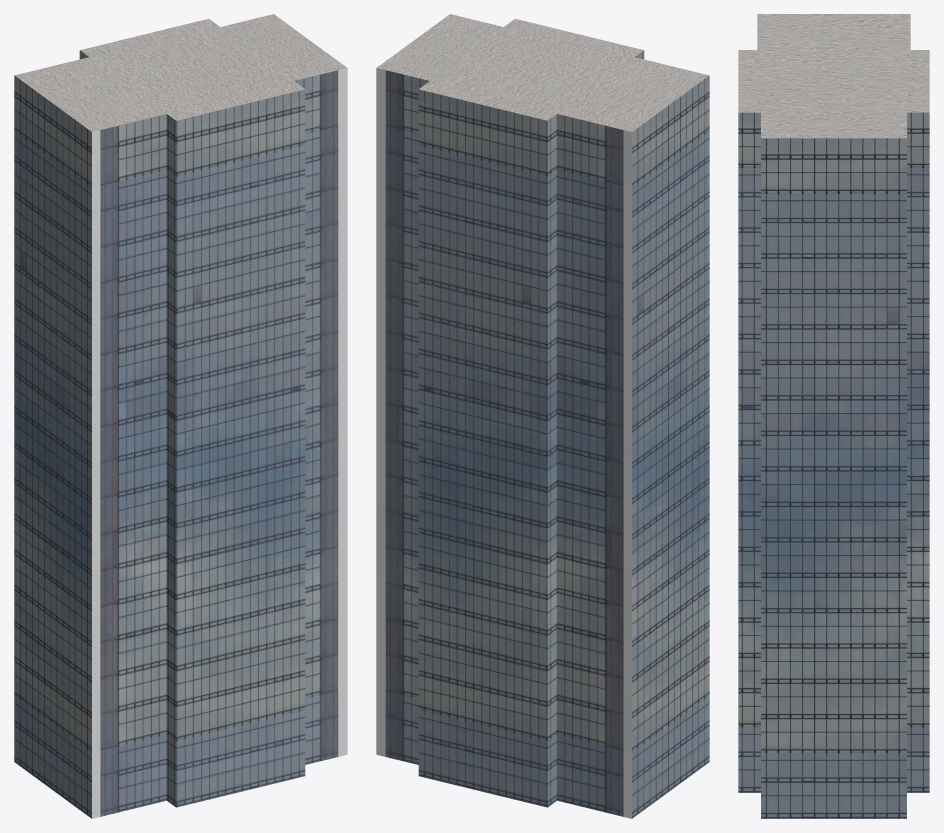
Rendered from building_040.fbx.
3 views of the same model, side by side, from view 1: azimuth 30°, elevation 25°; view 2: azimuth 150°, elevation 25°; view 3: azimuth 270°, elevation 25° (orthographic).
Visible parts, largest first — view 1: building_040; view 2: building_040; view 3: building_040.
Boxes of the visible parts, bbox=[...] form: building_040: bbox=[14, 14, 347, 818]; building_040: bbox=[376, 14, 709, 818]; building_040: bbox=[738, 14, 929, 818].
Bounding box in the file's own units: 1694 × 4320 × 1100.
